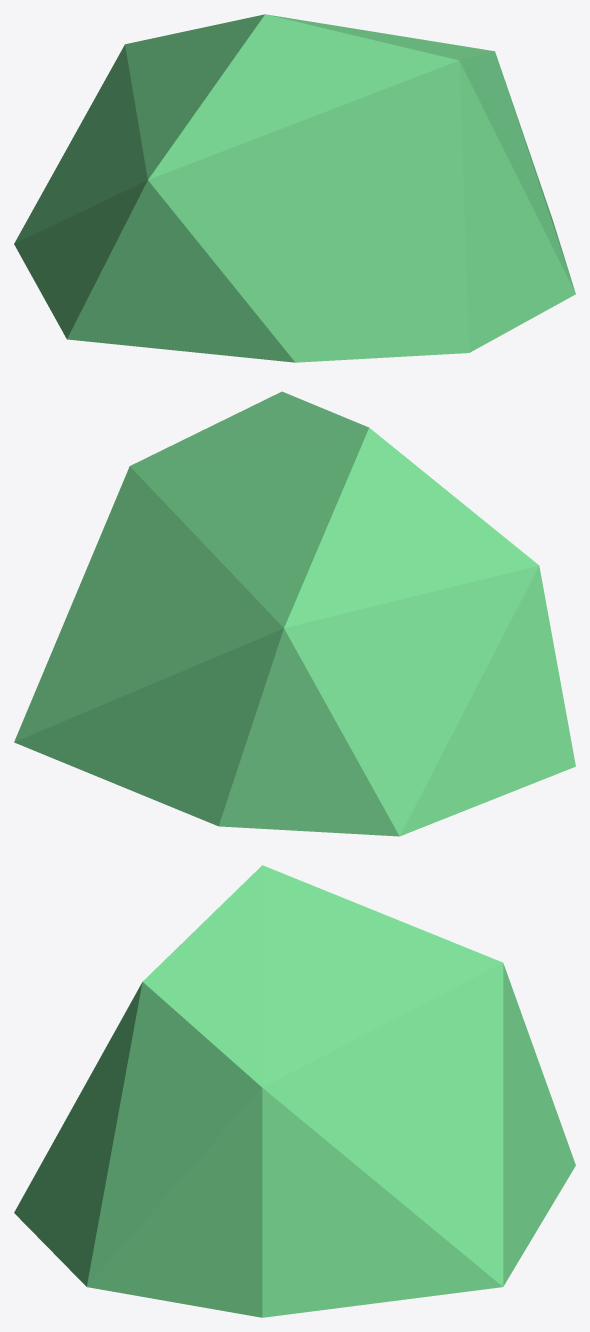
The model's file is Rock 6.fbx.
3 views of the same model, one above another, from view 1: azimuth 30°, elevation 25°; view 2: azimuth 150°, elevation 25°; view 3: azimuth 270°, elevation 25° (orthographic). The views are drawn at different scales.
Visible parts, largest first — view 1: Rock 6; view 2: Rock 6; view 3: Rock 6.
Boxes of the visible parts, x1,y1,x2,y2 form: Rock 6: (14, 14, 575, 362); Rock 6: (14, 391, 575, 836); Rock 6: (14, 865, 575, 1317).
Bounding box in the file's own units: 34.67 × 18.86 × 32.
Materials: 1 (1 with a texture image).
